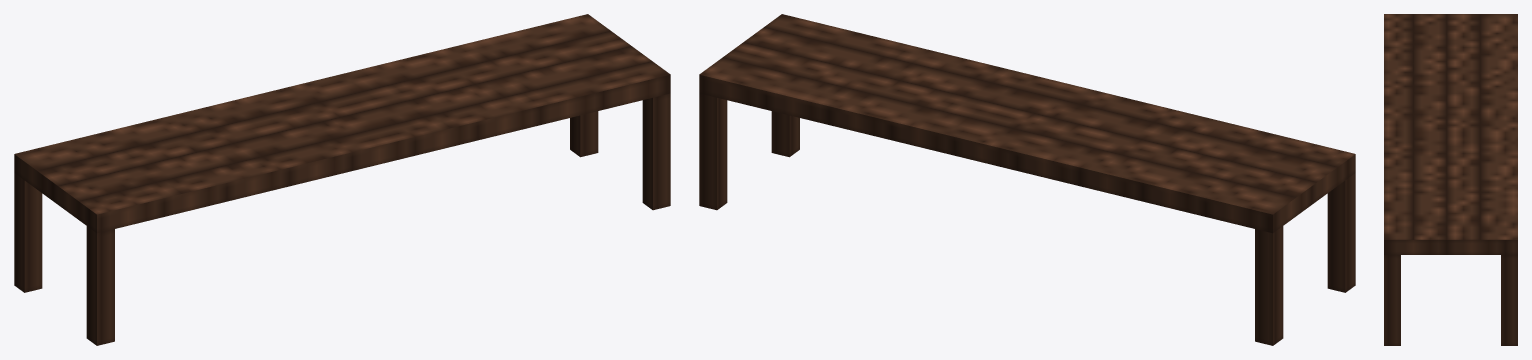
File: ArgentineParrilla.fbx
The picture shows the model from 3 angles, left to right: view 1: azimuth 30°, elevation 25°; view 2: azimuth 150°, elevation 25°; view 3: azimuth 270°, elevation 25°; orthographic projection. The views are drawn at different scales.
Parts seen in each view (by area): view 1: tabletop, leg_fl, leg_fr, leg_bl, leg_br; view 2: tabletop, leg_bl, leg_br, leg_fl, leg_fr; view 3: tabletop, leg_br, leg_fr.
Boxes of the visible parts, bbox=[...] form: tabletop: bbox=[14, 14, 670, 233]; leg_fl: bbox=[86, 226, 114, 345]; leg_fr: bbox=[642, 93, 670, 210]; leg_bl: bbox=[14, 173, 42, 292]; leg_br: bbox=[570, 111, 598, 157]; tabletop: bbox=[699, 14, 1355, 233]; leg_bl: bbox=[1255, 226, 1283, 345]; leg_br: bbox=[699, 93, 727, 210]; leg_fl: bbox=[1327, 173, 1355, 292]; leg_fr: bbox=[771, 111, 799, 157]; tabletop: bbox=[1384, 14, 1517, 254]; leg_br: bbox=[1501, 255, 1517, 345]; leg_fr: bbox=[1384, 255, 1400, 345].
Bounding box in the file's own units: 400 × 87.5 × 100.
1 material, 1 textured.
